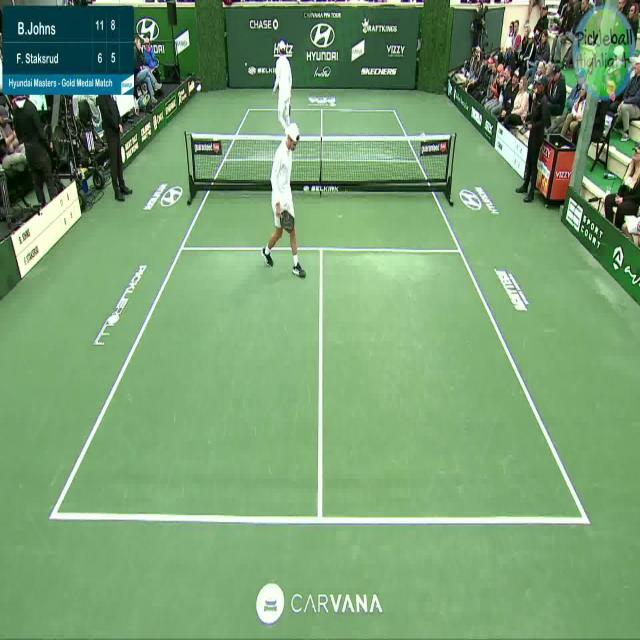Court: (52, 109, 586, 520)
